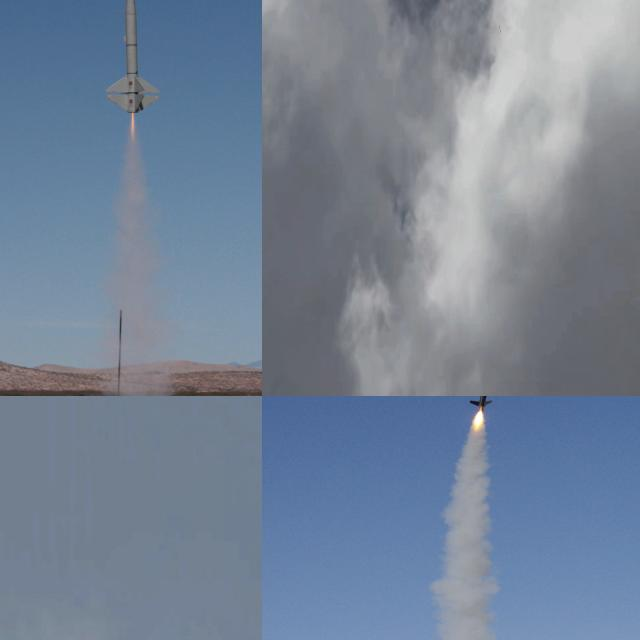Rocket: (104, 0, 162, 114), (469, 396, 493, 412), (498, 25, 502, 34)
